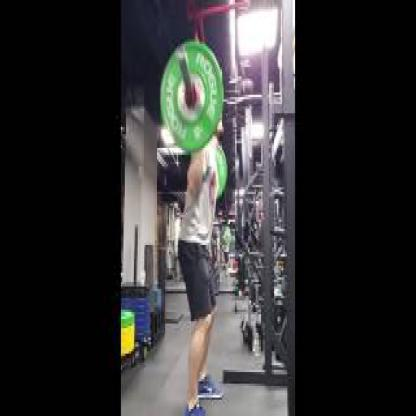Barbell: (177, 45, 190, 66)
